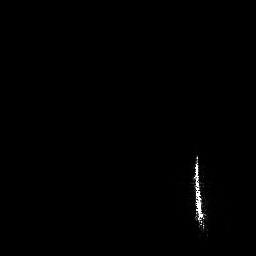ship: (192, 153, 209, 240)
